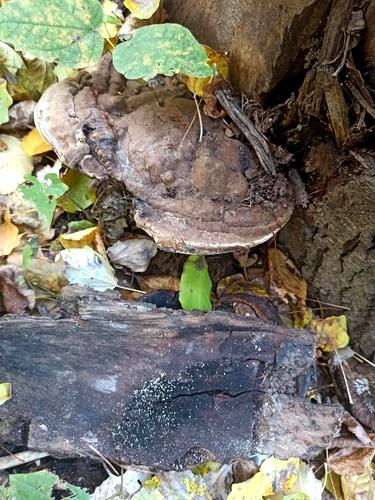Ganoderma - Fruit Body: (30, 51, 295, 250)
